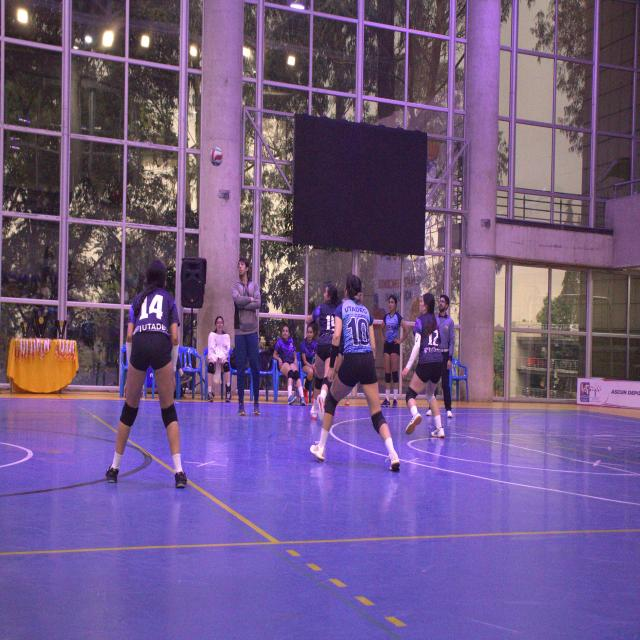volleyball: (210, 147, 223, 166)
